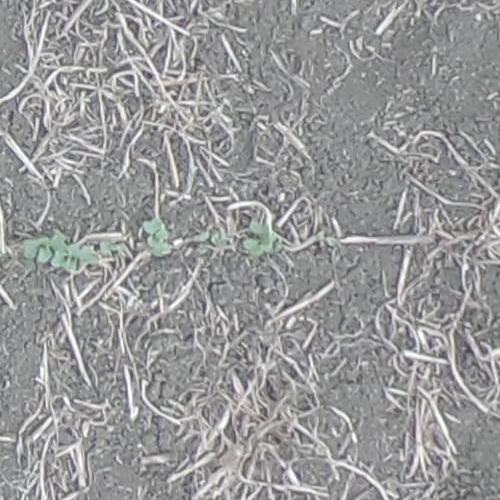plant: (24, 233, 96, 268), (142, 217, 173, 258), (243, 221, 273, 255), (194, 230, 228, 248), (318, 230, 334, 246)
